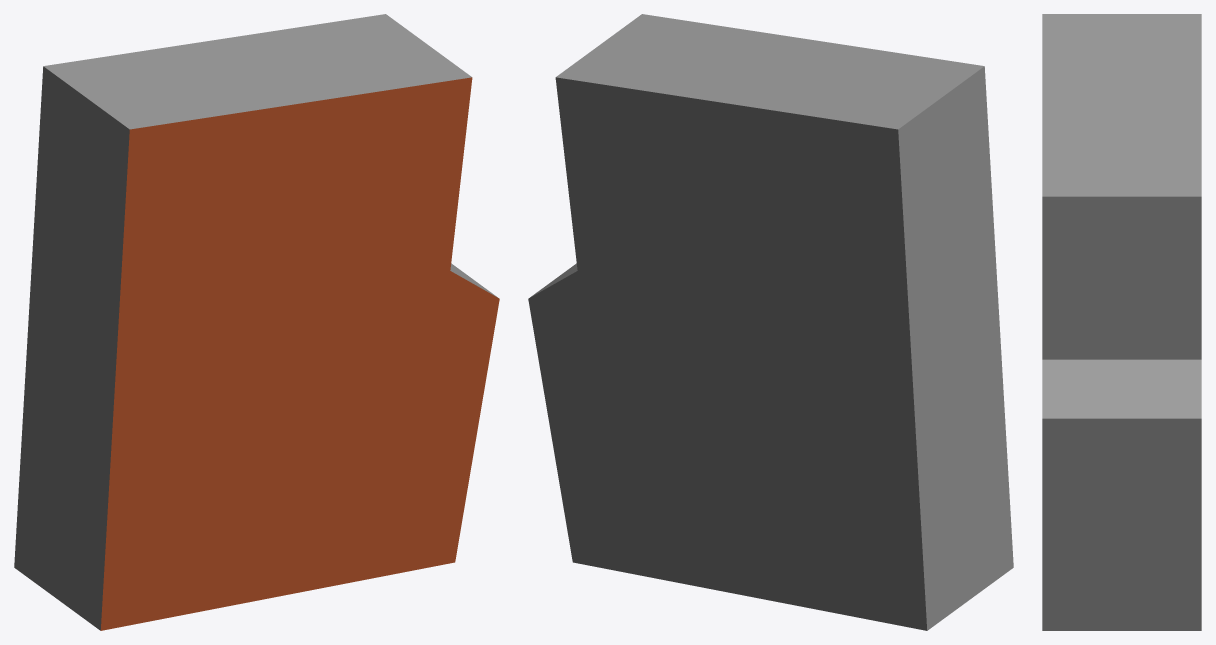
File: construction_4579_assumed_A_Casa_h6m.obj
3 views of the same model, side by side, from view 1: azimuth 30°, elevation 25°; view 2: azimuth 150°, elevation 25°; view 3: azimuth 270°, elevation 25° (orthographic). The views are drawn at different scales.
Visible parts, largest first — view 1: construction_4579_assumed_A_Casa; view 2: construction_4579_assumed_A_Casa; view 3: construction_4579_assumed_A_Casa.
Boxes of the visible parts, left/top/right/bottom form: construction_4579_assumed_A_Casa: left=14, top=14, right=499, bottom=630; construction_4579_assumed_A_Casa: left=528, top=14, right=1013, bottom=630; construction_4579_assumed_A_Casa: left=1042, top=14, right=1201, bottom=630.
Size of the model in its own units: 15.97 by 19.6 by 6.
